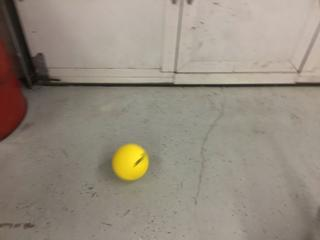power_cell: (113, 140, 154, 182)
